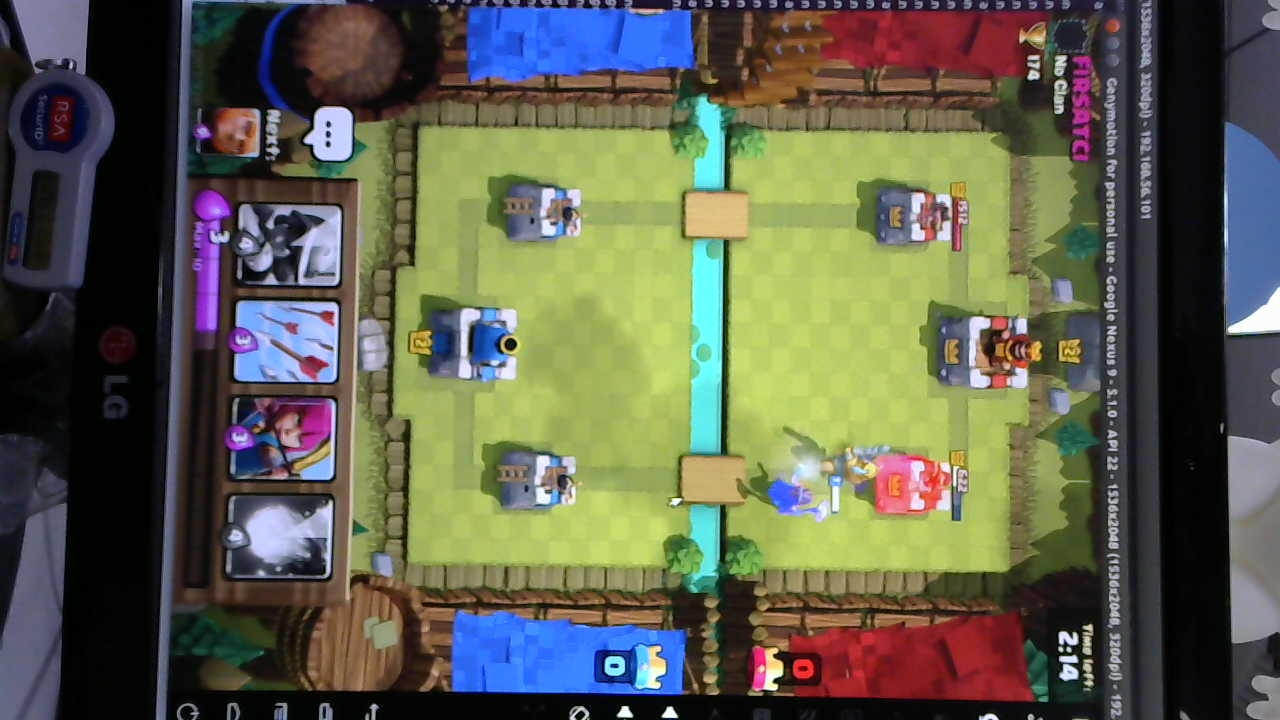arena: (494, 446, 583, 515), (501, 176, 584, 244)
earena: (876, 453, 954, 524), (873, 187, 955, 247)
eking: (931, 309, 1040, 394)
king: (430, 303, 522, 382)
prince: (813, 443, 887, 487)
witch: (761, 478, 831, 521)
